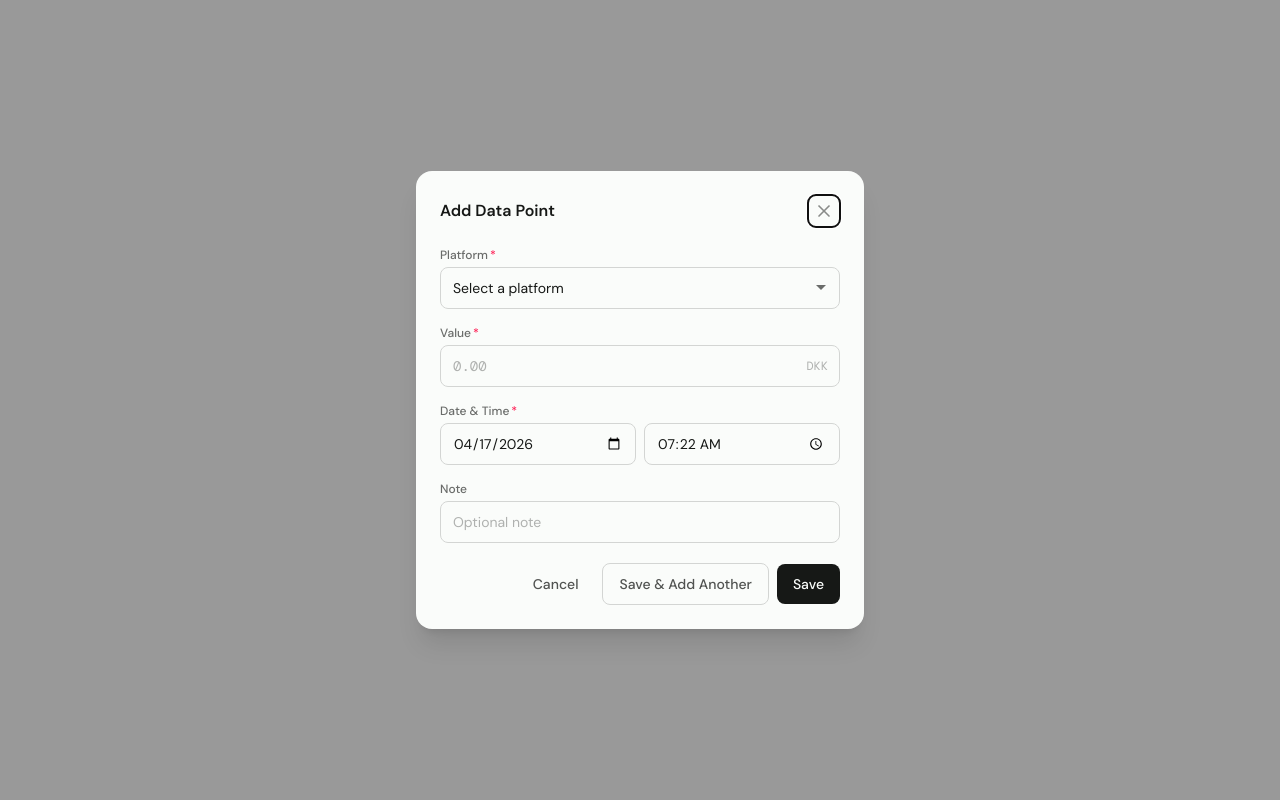
DataPointDialog › Currency suffix › shows currency matching selected platform
expect the text "DKK" is shown: met, box [806,358,828,374]
Select Saxo Bank (EUR)
Select "Saxo Bank" in the dropdown with id "dp-platform" at (640, 288), box [440,267,840,309]
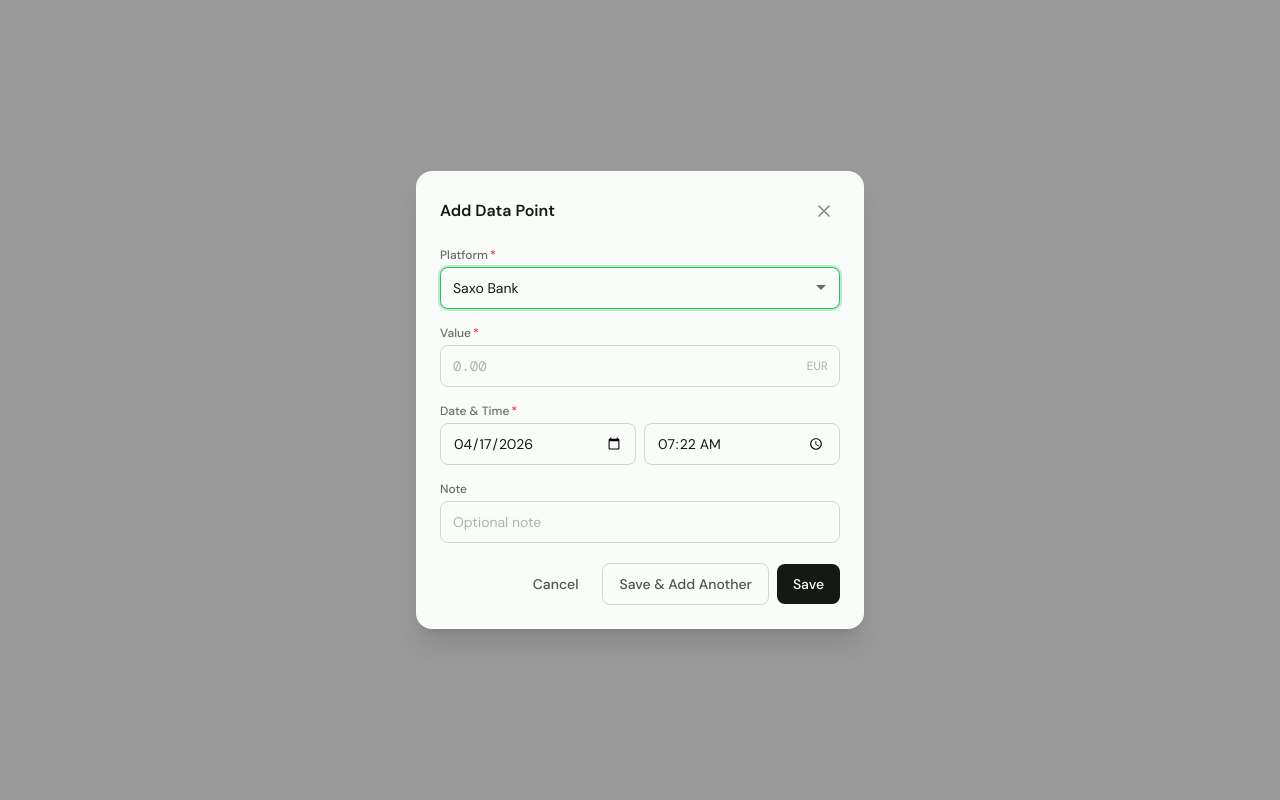
expect the text "EUR" is shown: met, box [806,358,828,374]
